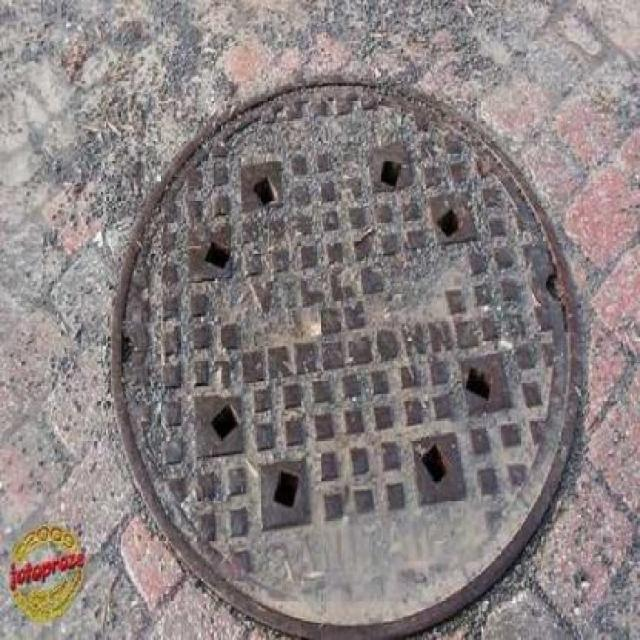Manhole: (105, 66, 610, 640)
